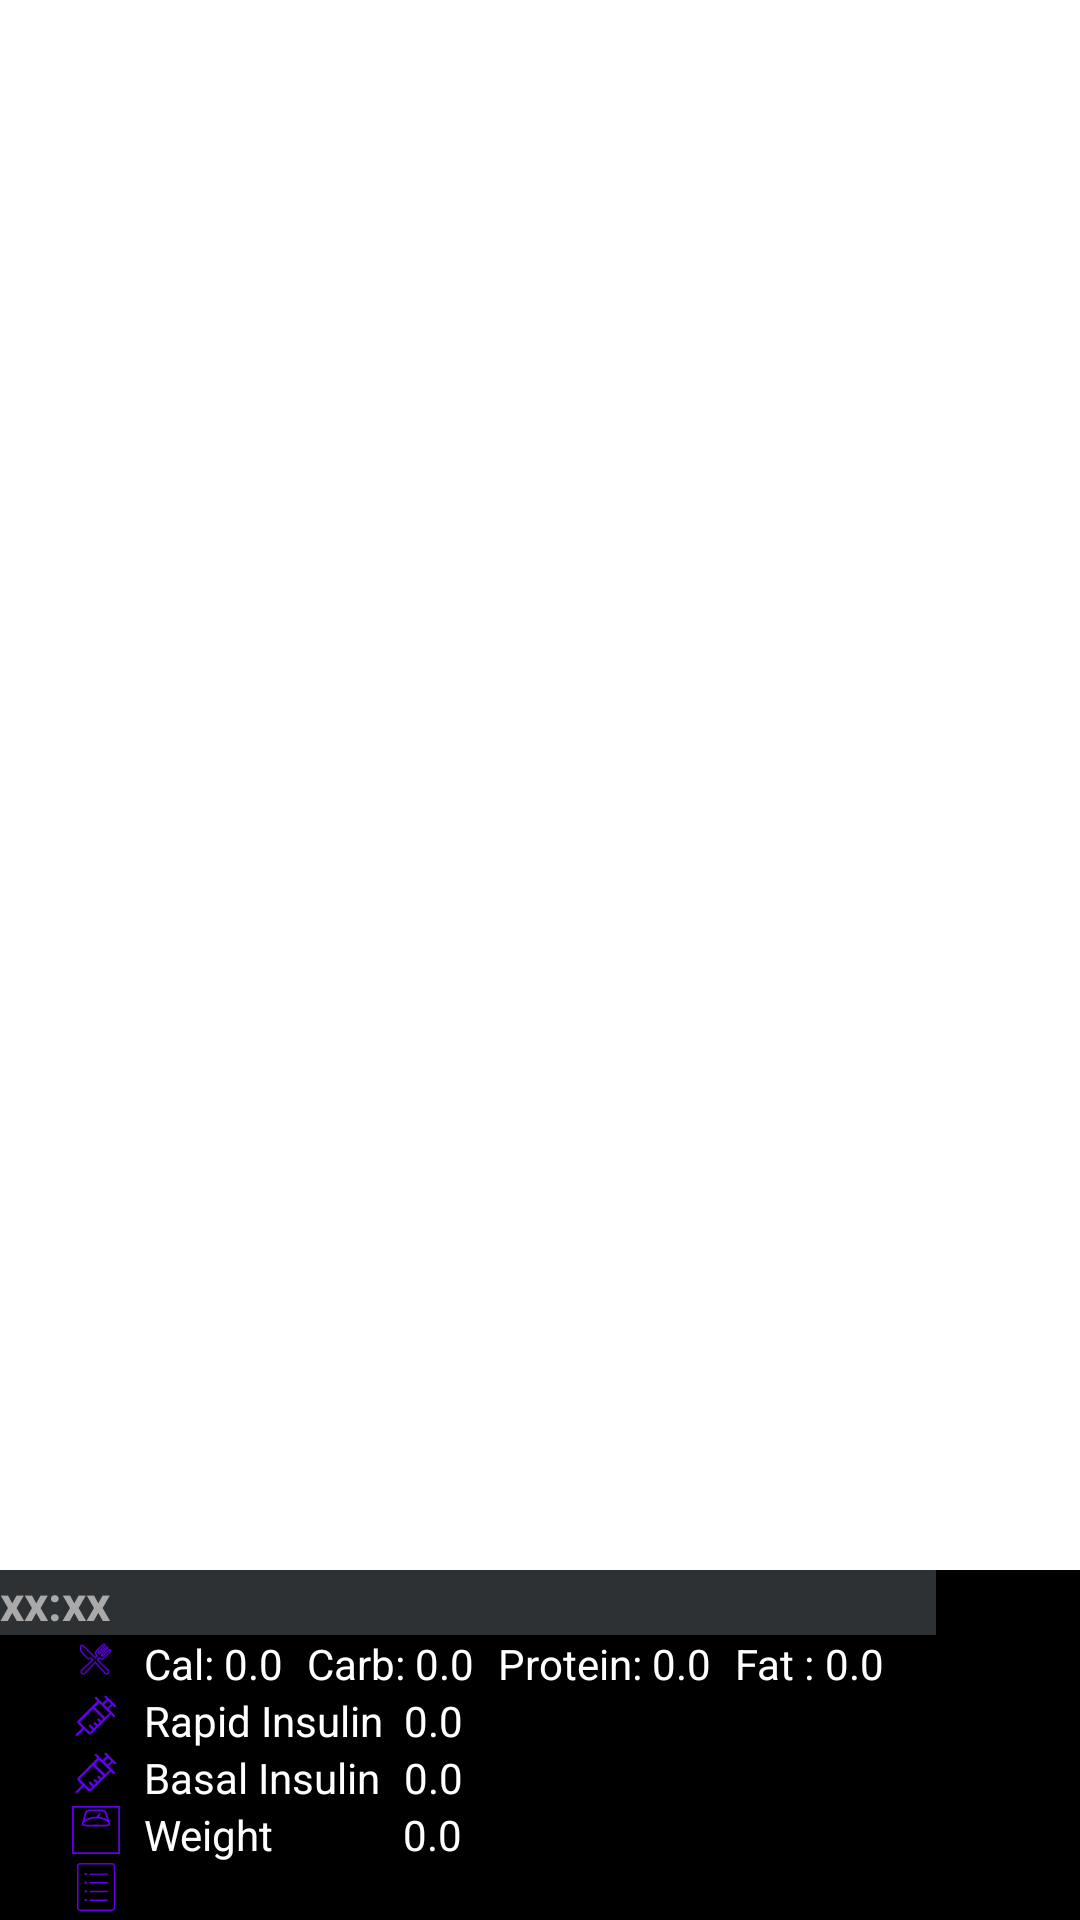

Screen size 1080x1920. Icon name, then its center in pixels as point (x, y):
Meal: point (96, 1659)
Note: point (96, 1887)
